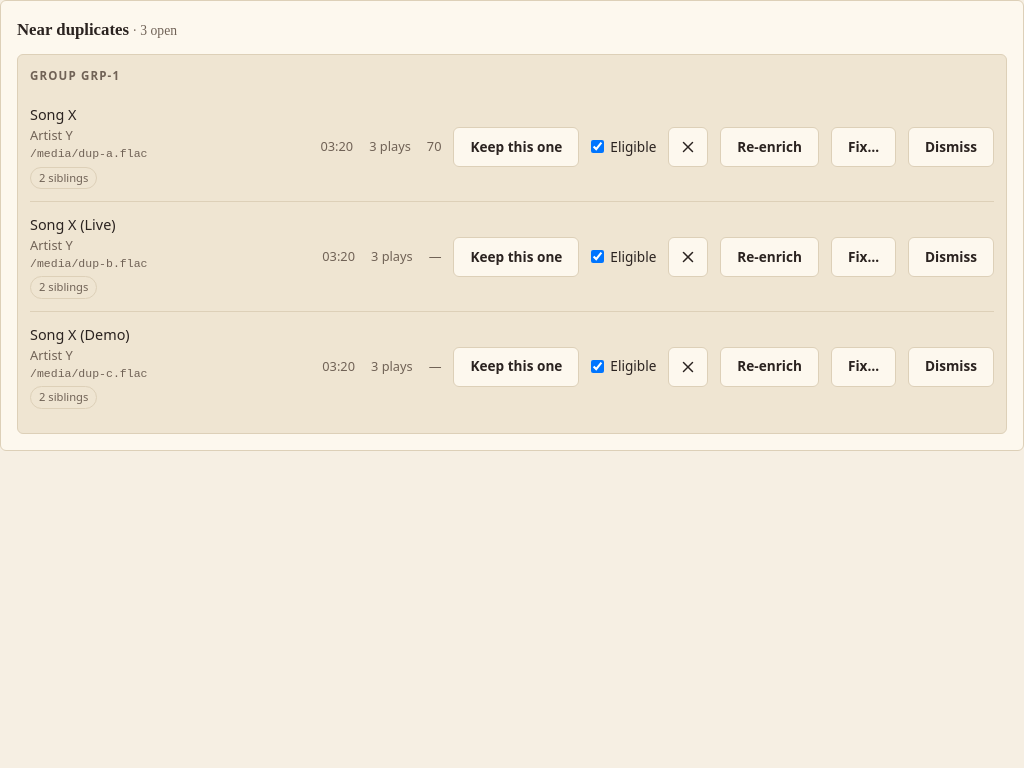
Test: Feature: the Gardener section (SPEC F153.10 rider 2026-08-31) › Scenario: Keep this one on a duplicate group of three (STORY-376 AC6, STORY-383 AC4) › shows a confirm dialog naming the sibling count
This screenshot has width=1024, height=768.
Click the button "Keep this one" next to "70" at (516, 147), box [454,127,579,167]
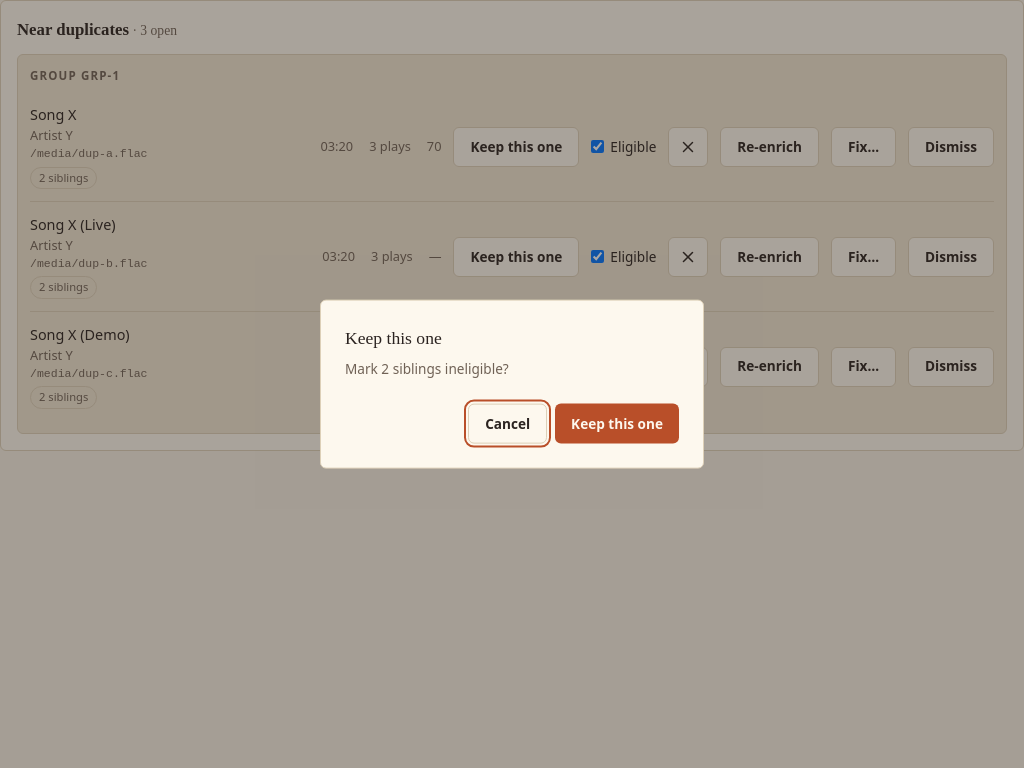
Now the text "Mark 2 siblings ineligible?" is shown, box [345,359,509,378]
